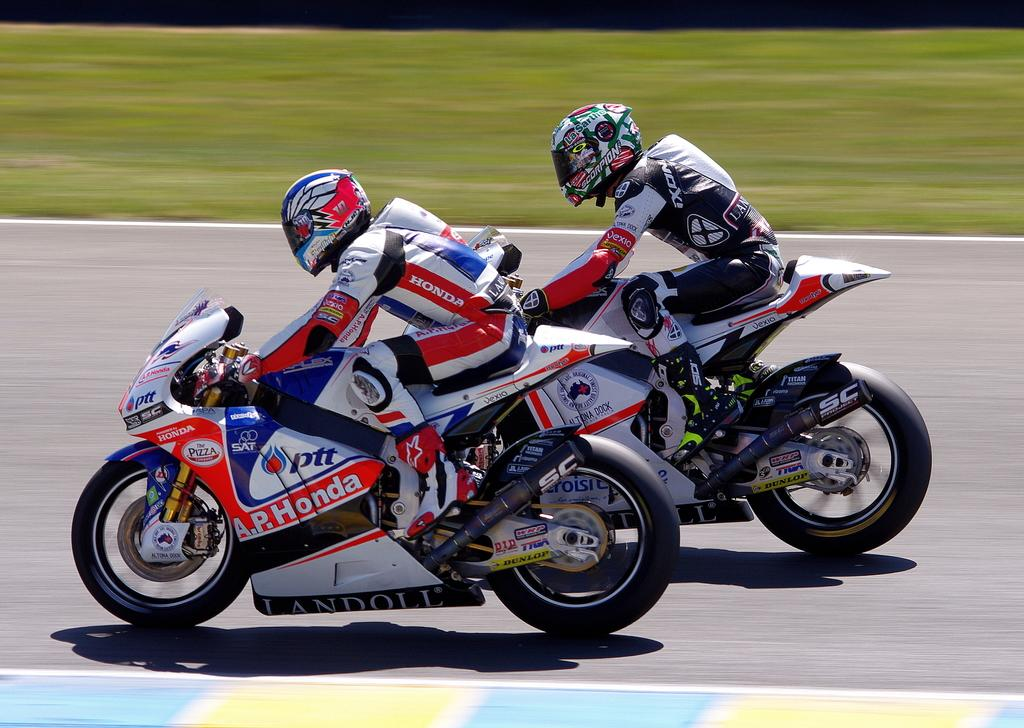helmet: (280, 168, 372, 277), (550, 102, 643, 207)
